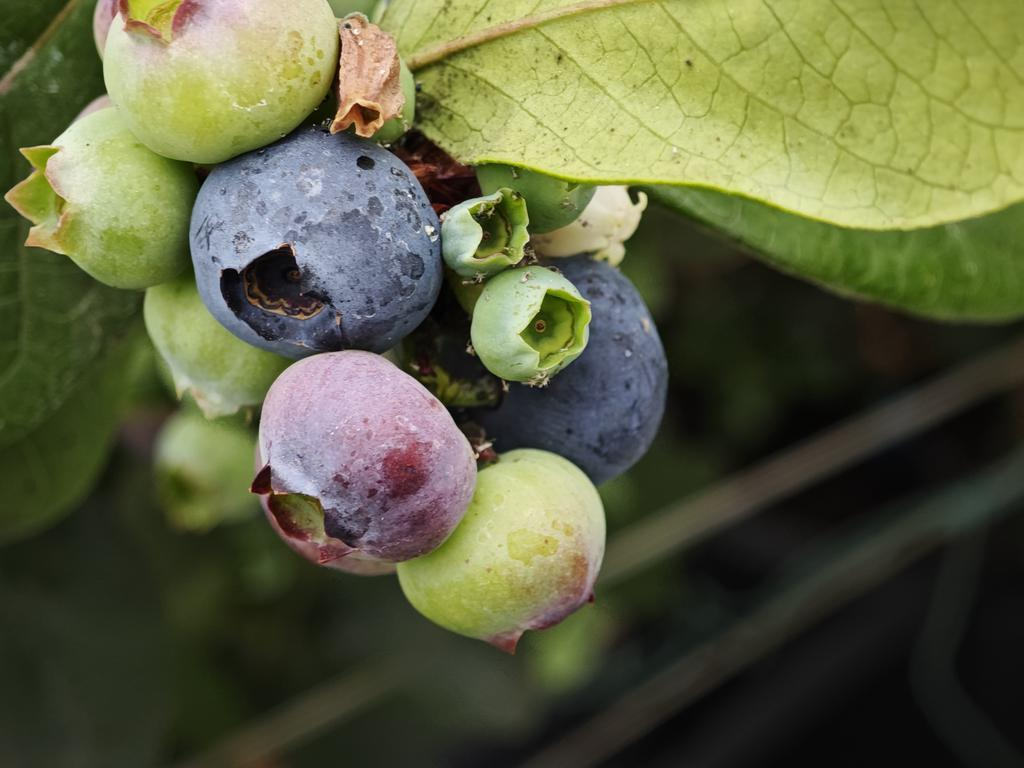RipeBlueBerry: (185, 128, 447, 358)
Semi-RipeBlueBerry: (252, 343, 481, 569)
UnripeBlueBerry: (399, 445, 610, 655)
